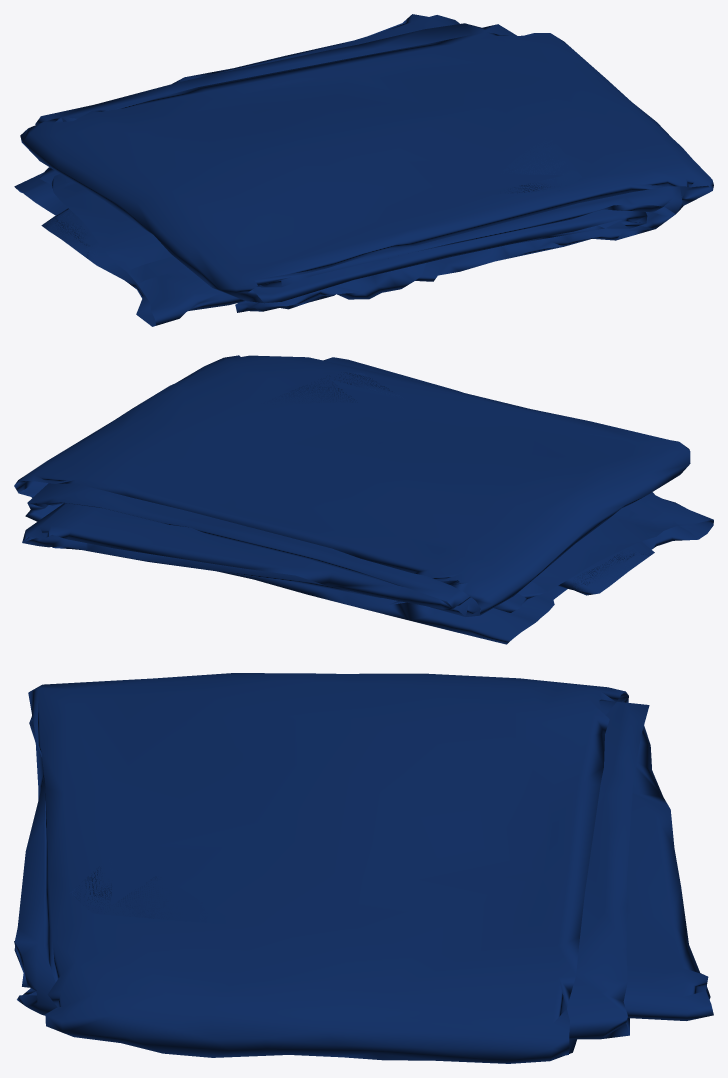
The model's file is Hand_asset_Jeans.fbx.
3 views of the same model, one above another, from view 1: azimuth 30°, elevation 25°; view 2: azimuth 150°, elevation 25°; view 3: azimuth 270°, elevation 25° (orthographic). The views are drawn at different scales.
Parts seen in each view (by area): view 1: Trousers.001; view 2: Trousers.001; view 3: Trousers.001.
Part boxes in pixels (left/top/right/bottom): Trousers.001: left=14, top=14, right=713, bottom=326; Trousers.001: left=14, top=355, right=713, bottom=644; Trousers.001: left=14, top=673, right=713, bottom=1063.
Size of the model in its own units: 69.97 by 8.9 by 54.99.
